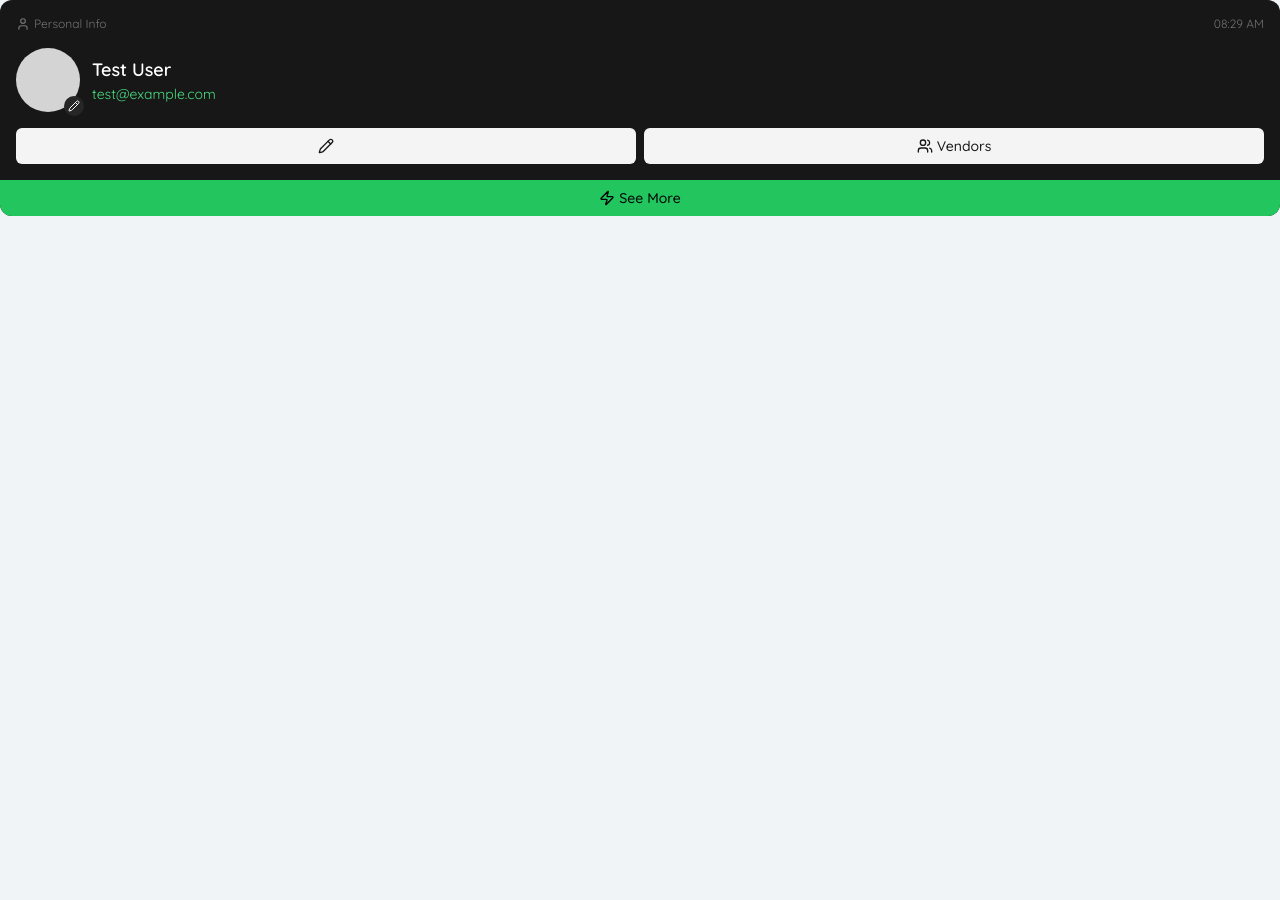
Test: PersonalInfoSection › opens avatar edit modal when badge clicked
The width and height of the screenshot is (1280, 900).
Click the button named "Edit Avatar": (74, 106) top-left (64, 96), bottom-right (84, 116)
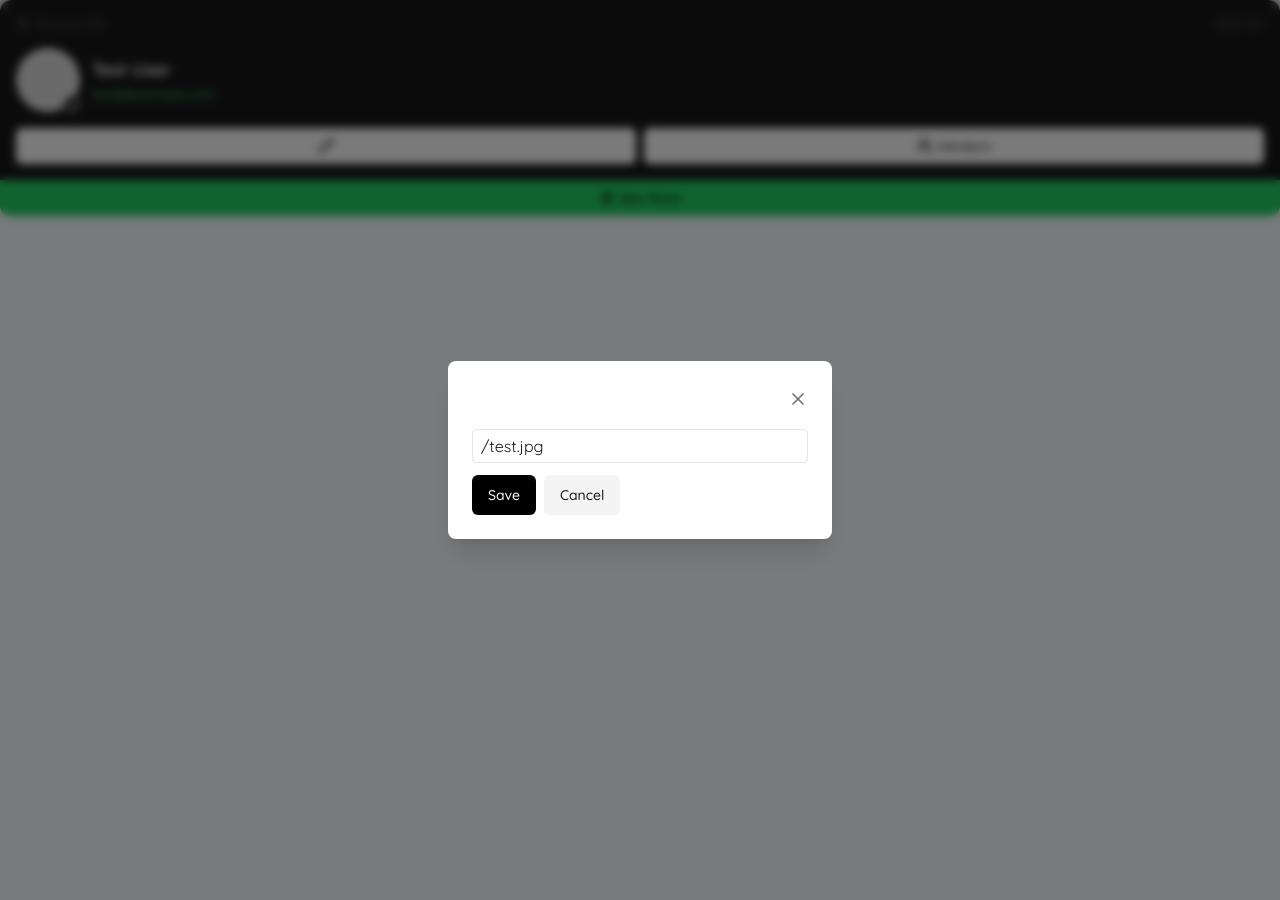
Check: the field with placeholder "Image URL" is shown, box top-left (472, 429), bottom-right (808, 463)
